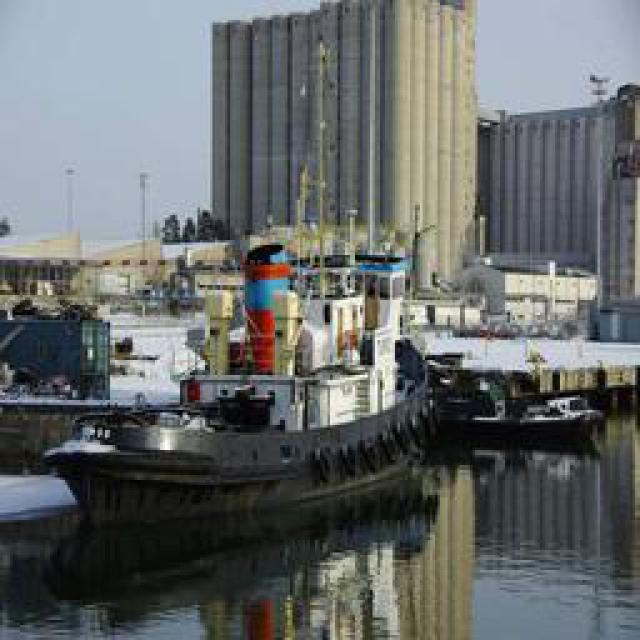Ship: (27, 307, 475, 565)
